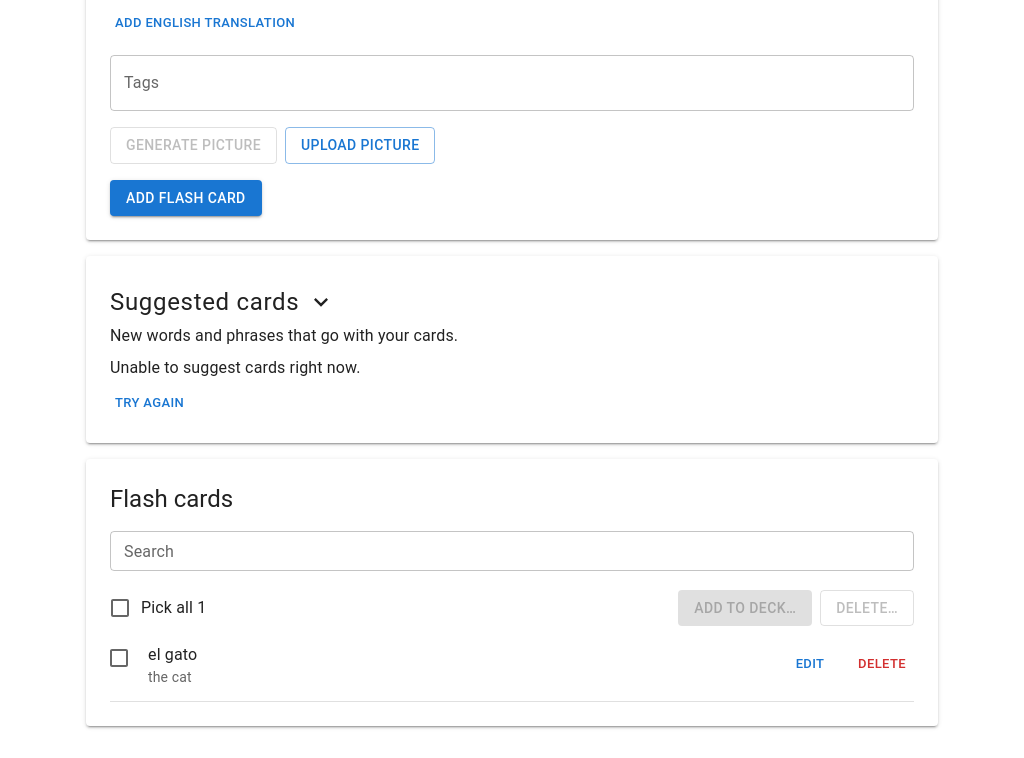
suggested cards › says so when suggestions fail, and tries again
(page scrolled)
Expected: the text "el gato" is shown, [148,645,197,664]
Expected: the text "Unable to suggest cards right now." is shown, [110,358,361,377]
Click the button "Try again": (150, 404) [110,388,189,419]
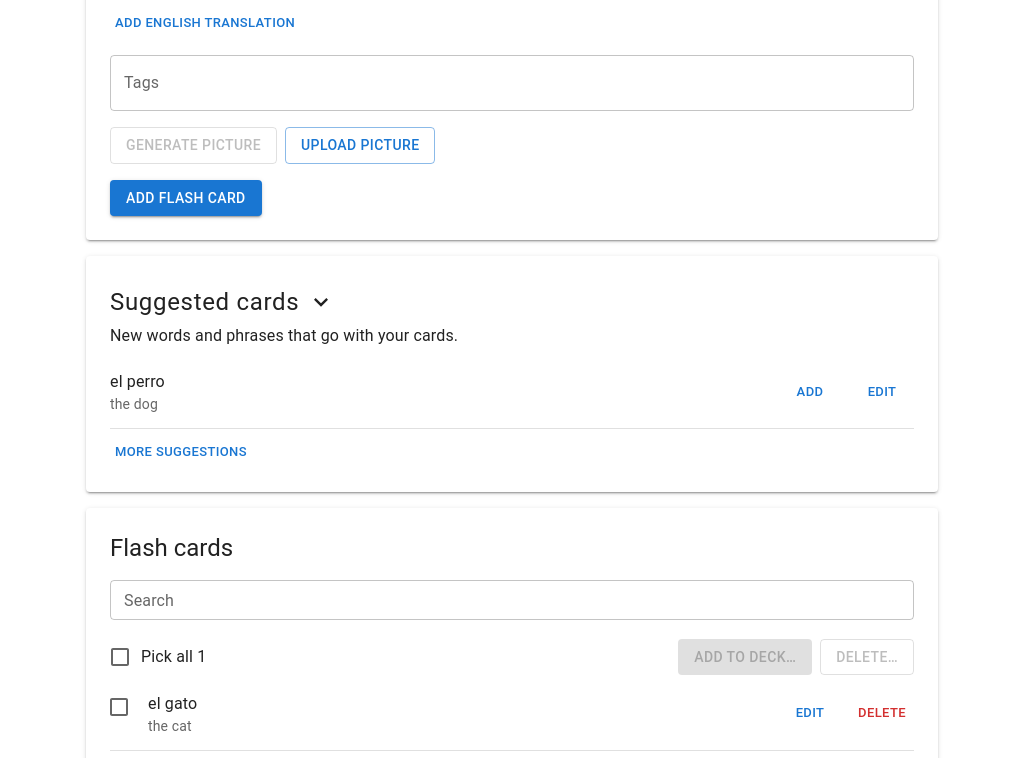
Now the list named "Suggested cards" shows "el perro", box [110,372,165,391]
